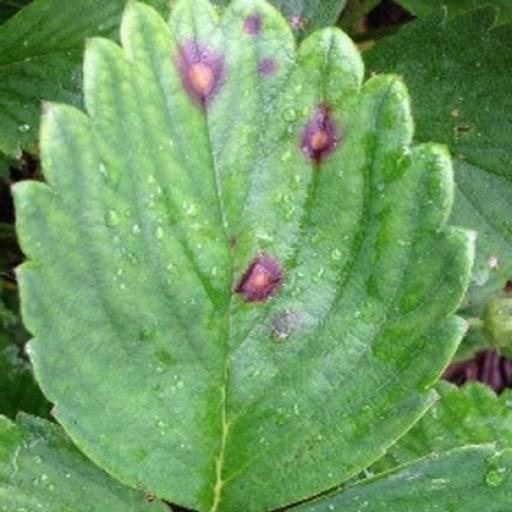Leaf Spot: (35, 0, 504, 511)
